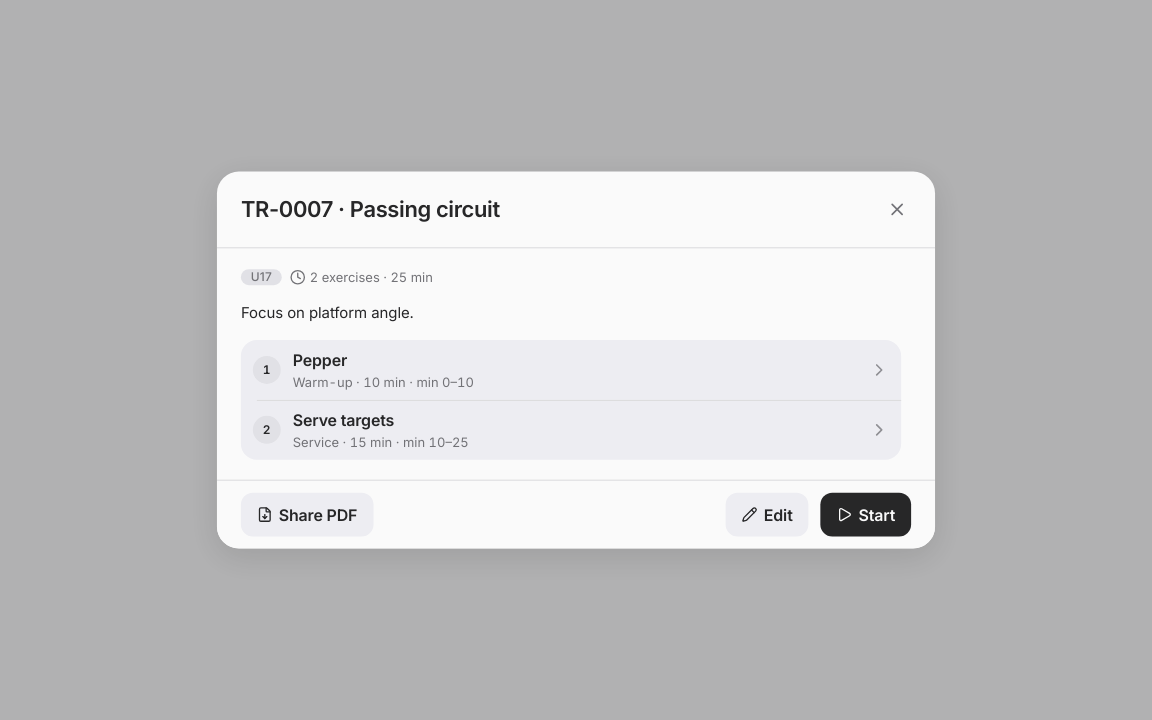
Test: TrainingViewSheet › opens an exercise full-screen from the plan, and Start opens the first one
Click the button with aria-label "View exercise 2: Serve targets". click: click(343, 420)
box: [240,400,902,460]
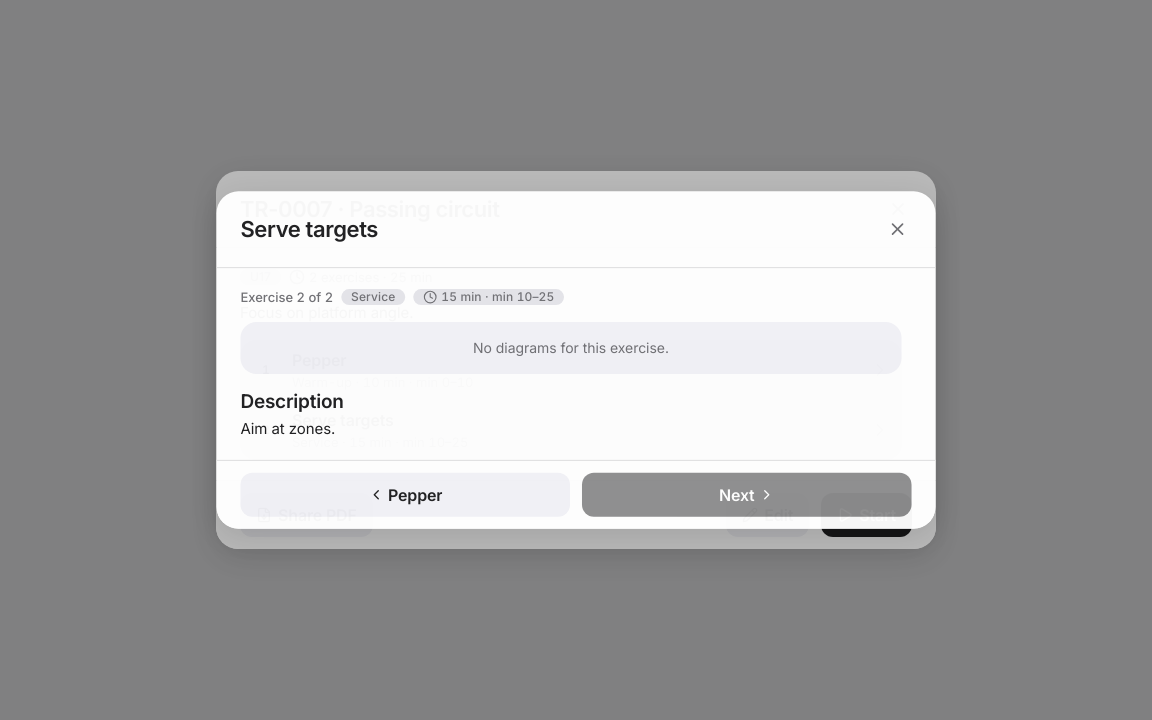
Check: the dialog "Serve targets" is shown, box [216,191,936,529]
Check: the text "No diagrams for this exercise." is shown, box [240,322,902,374]
Press Escape
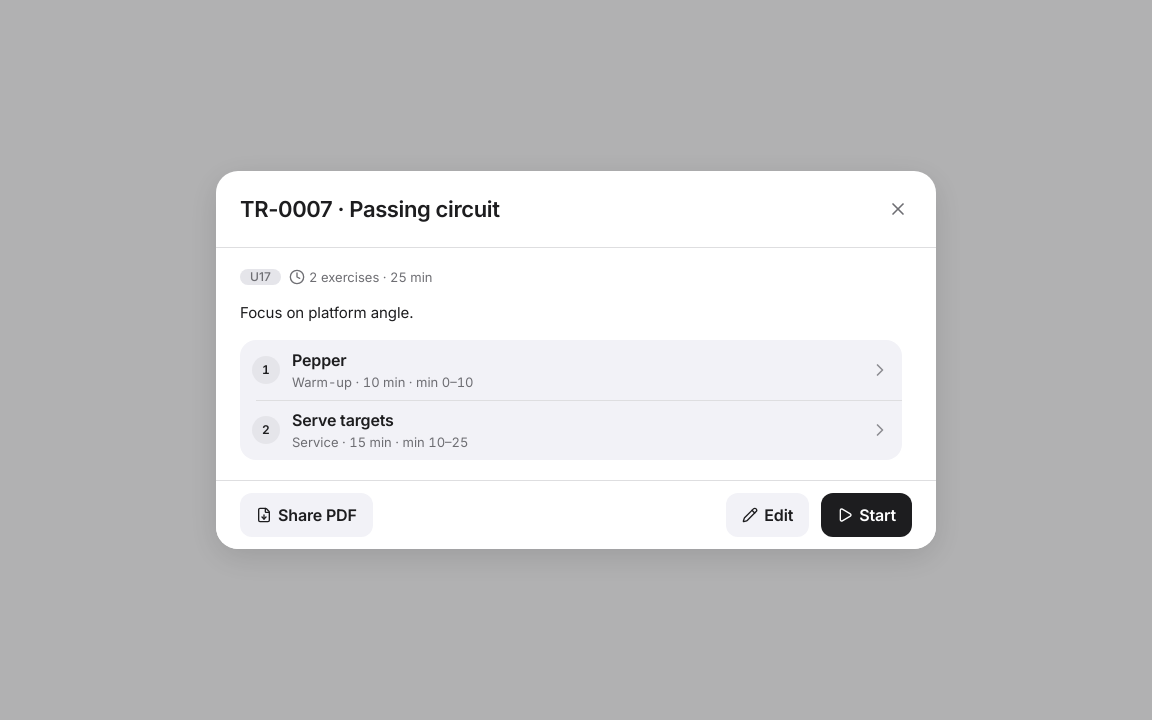
Click the button "Start". click: click(867, 515)
box: [821,493,912,537]
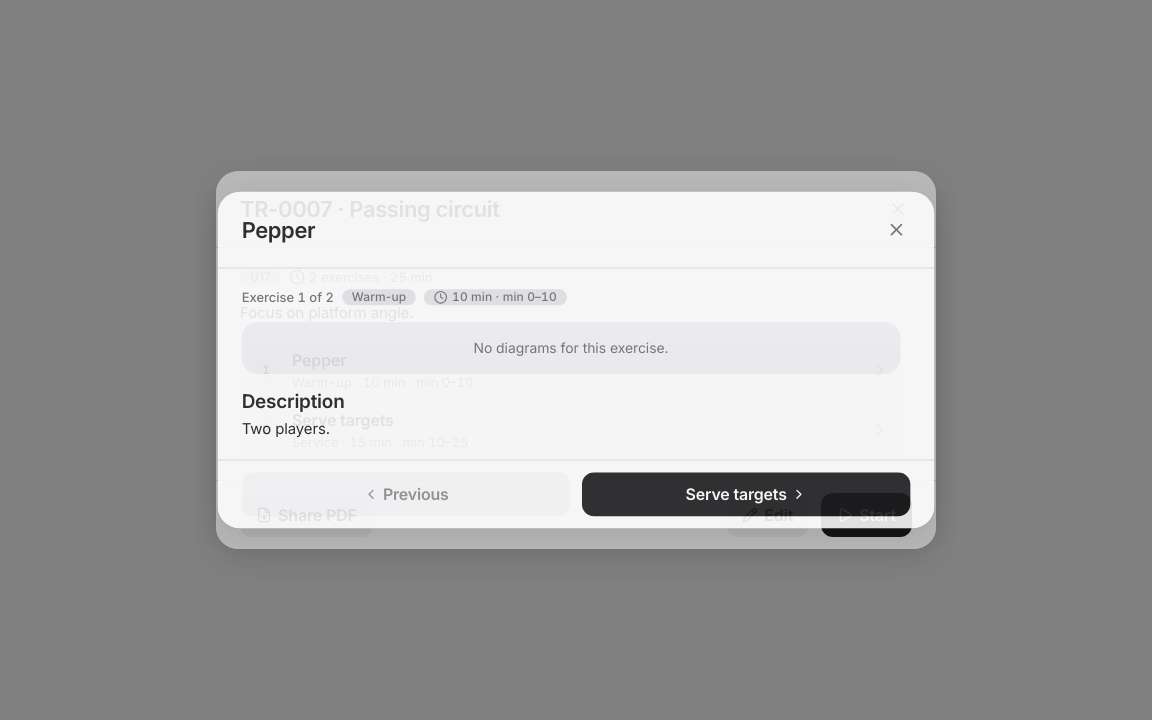
Check: the dialog "Pepper" is shown, box [217,191,935,528]
Check: the text "No diagrams for this exercise." is shown, box [241,322,901,374]
